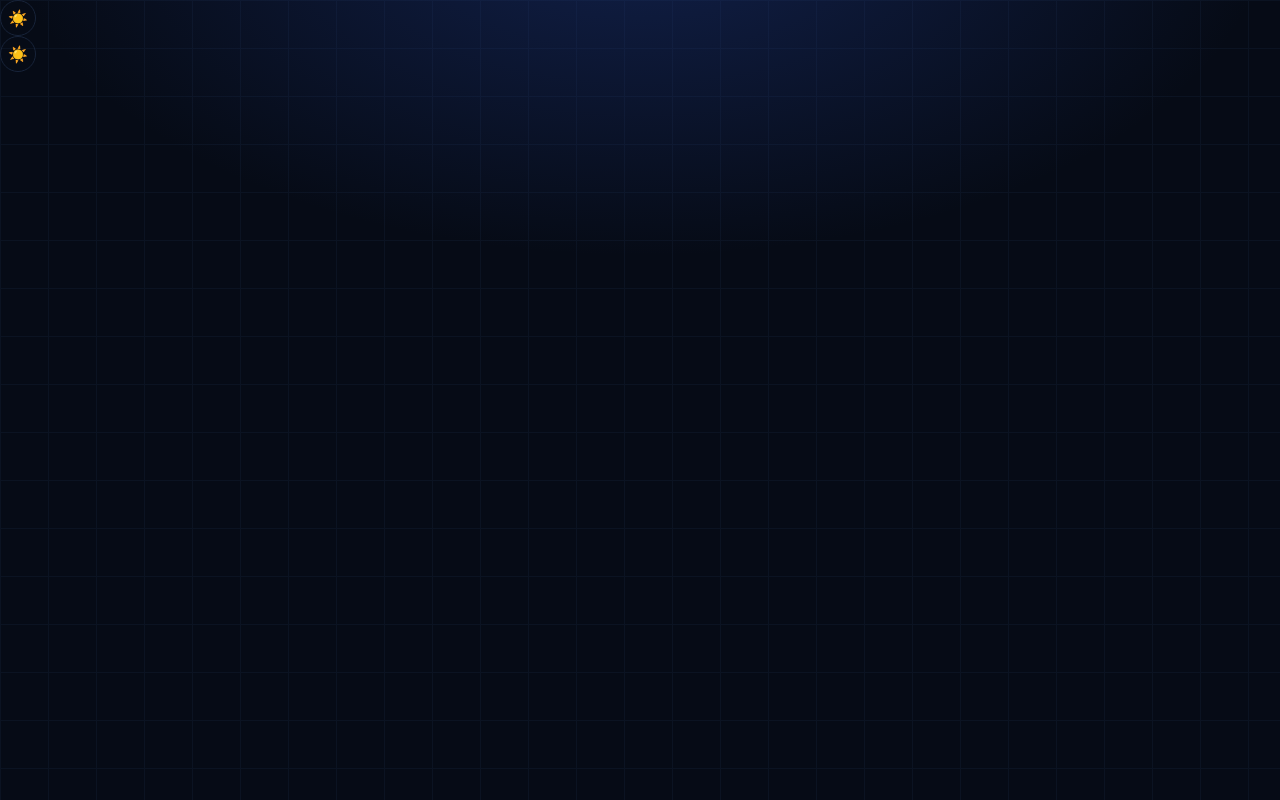
painel: estrutura › os dois botões de tema ficam em sincronia
The image size is (1280, 800).
Later steps or results of the test are not shown.
Click the 1st button "☀" at (18, 18), box [0,0,36,36]
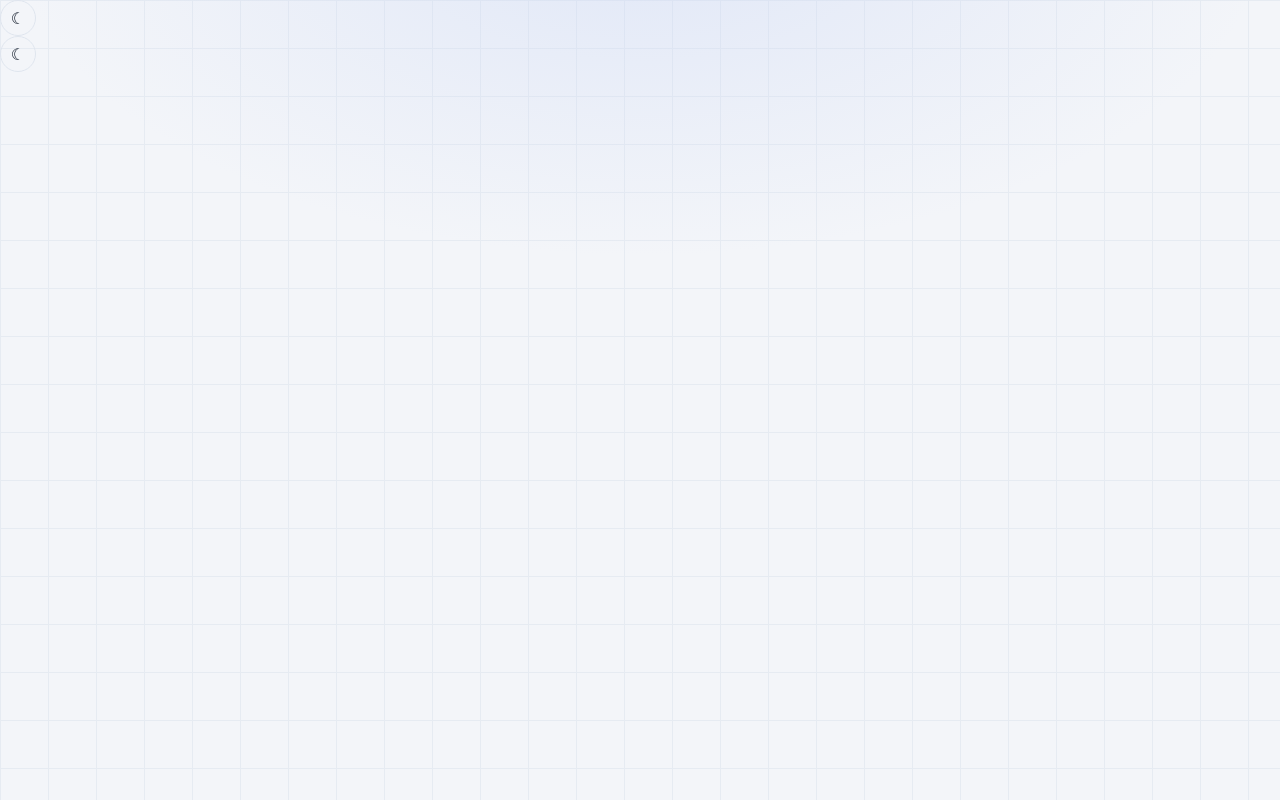
Expected: the buttons read "☾", "☾", in this order, [0,0,36,36]; [0,36,36,72]
